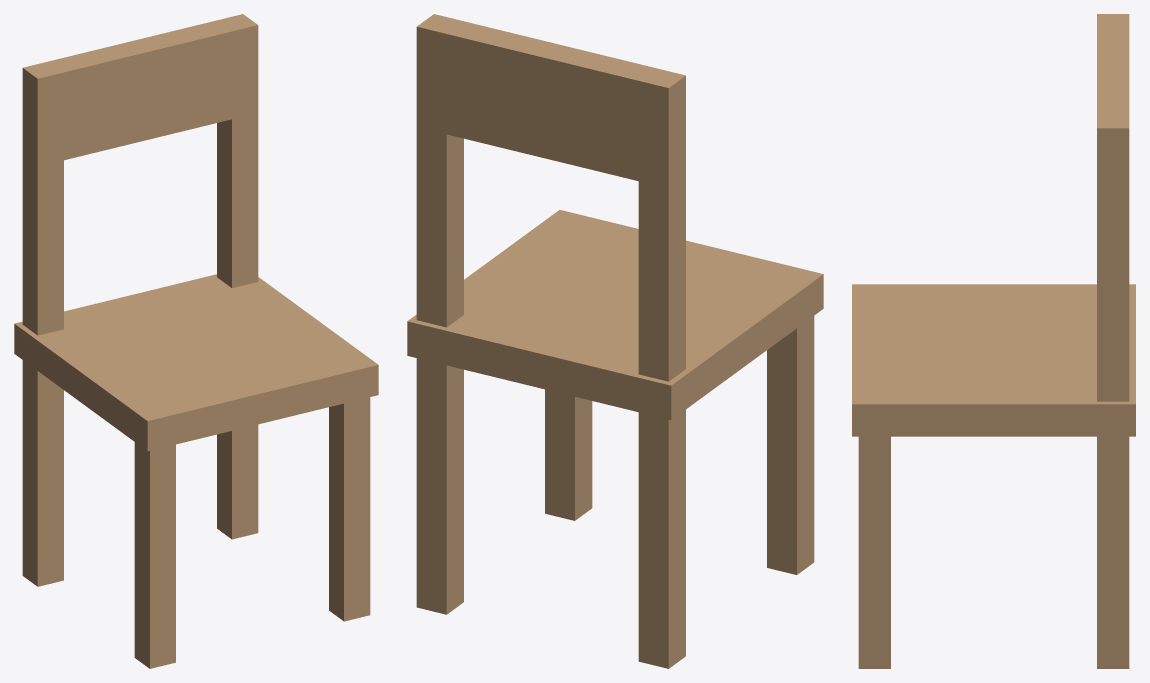
File: silla.glb
3 views of the same model, side by side, from view 1: azimuth 30°, elevation 25°; view 2: azimuth 150°, elevation 25°; view 3: azimuth 270°, elevation 25° (orthographic). The views are drawn at different scales.
Visible parts, largest first — view 1: silla; view 2: silla; view 3: silla.
Boxes of the visible parts, x1,y1,x2,y2 form: silla: (14, 14, 378, 668); silla: (407, 14, 823, 668); silla: (852, 14, 1135, 668).
Bounding box in the file's own units: 0.44 × 0.925 × 0.44.
